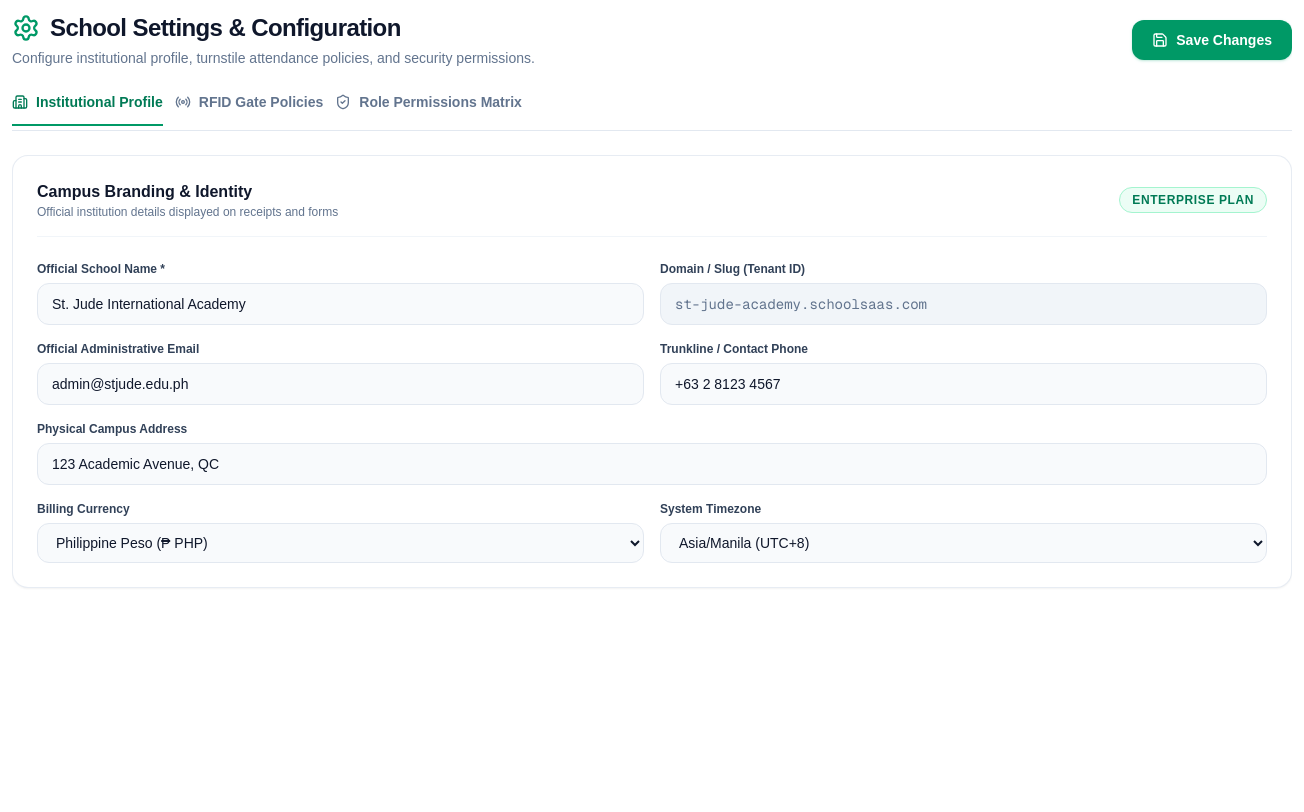
Test case: SettingsPage › switches to RFID Gate Policies tab
The width and height of the screenshot is (1304, 812).
Click the button "RFID Gate Policies" at [249, 109], box 175,92 -> 323,126
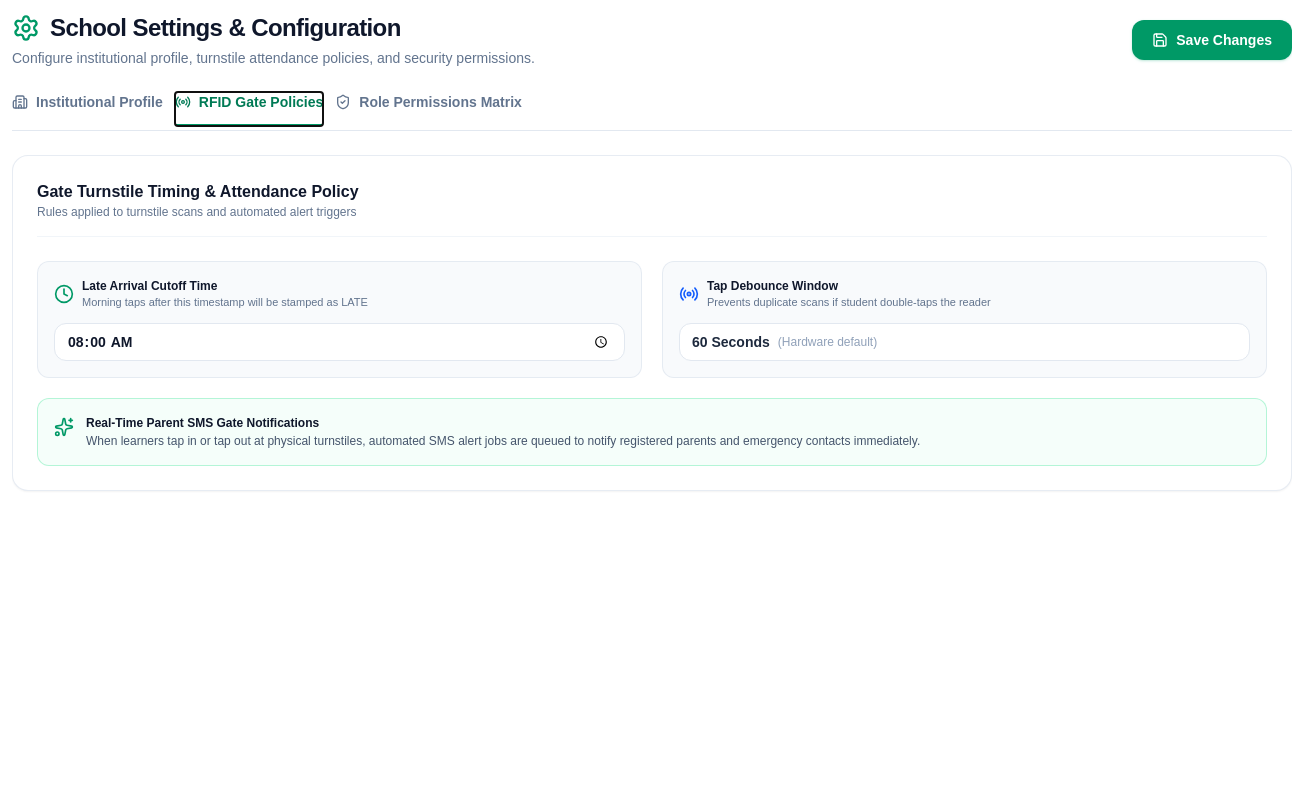
Expected: the heading "Gate Turnstile Timing & Attendance Policy" is shown, 37,183 -> 358,200
Expected: the text "Late Arrival Cutoff Time" is shown, 82,279 -> 217,293
